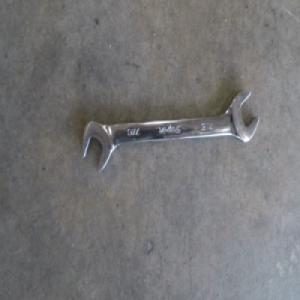Wrench: (81, 91, 255, 171)
